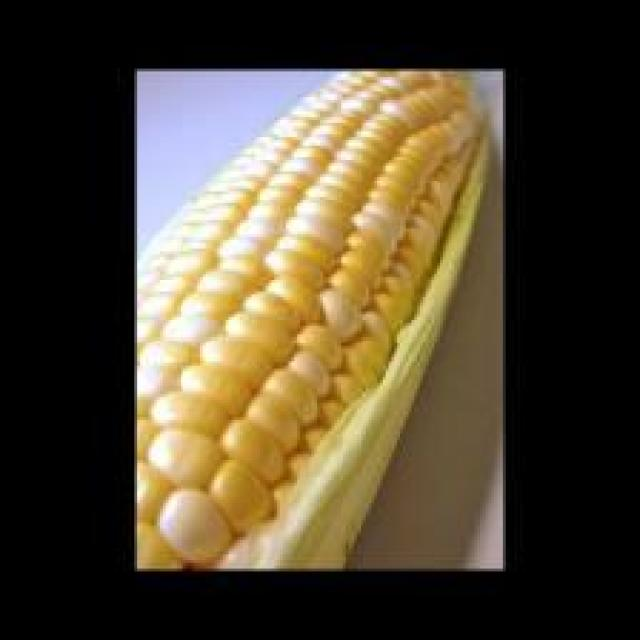corn: (137, 69, 497, 571)
